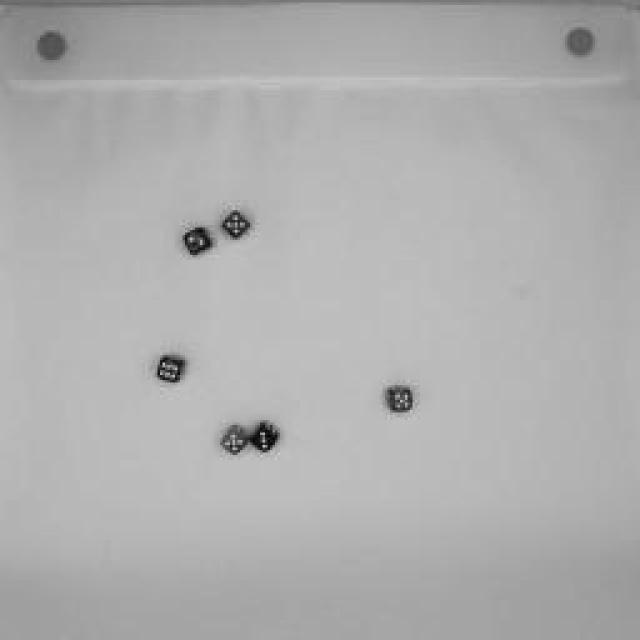dice_2: (179, 221, 219, 259)
dice_3: (248, 415, 282, 455)
dice_5: (216, 421, 254, 459), (381, 381, 419, 419), (219, 206, 256, 244)
dice_6: (152, 346, 192, 389)
